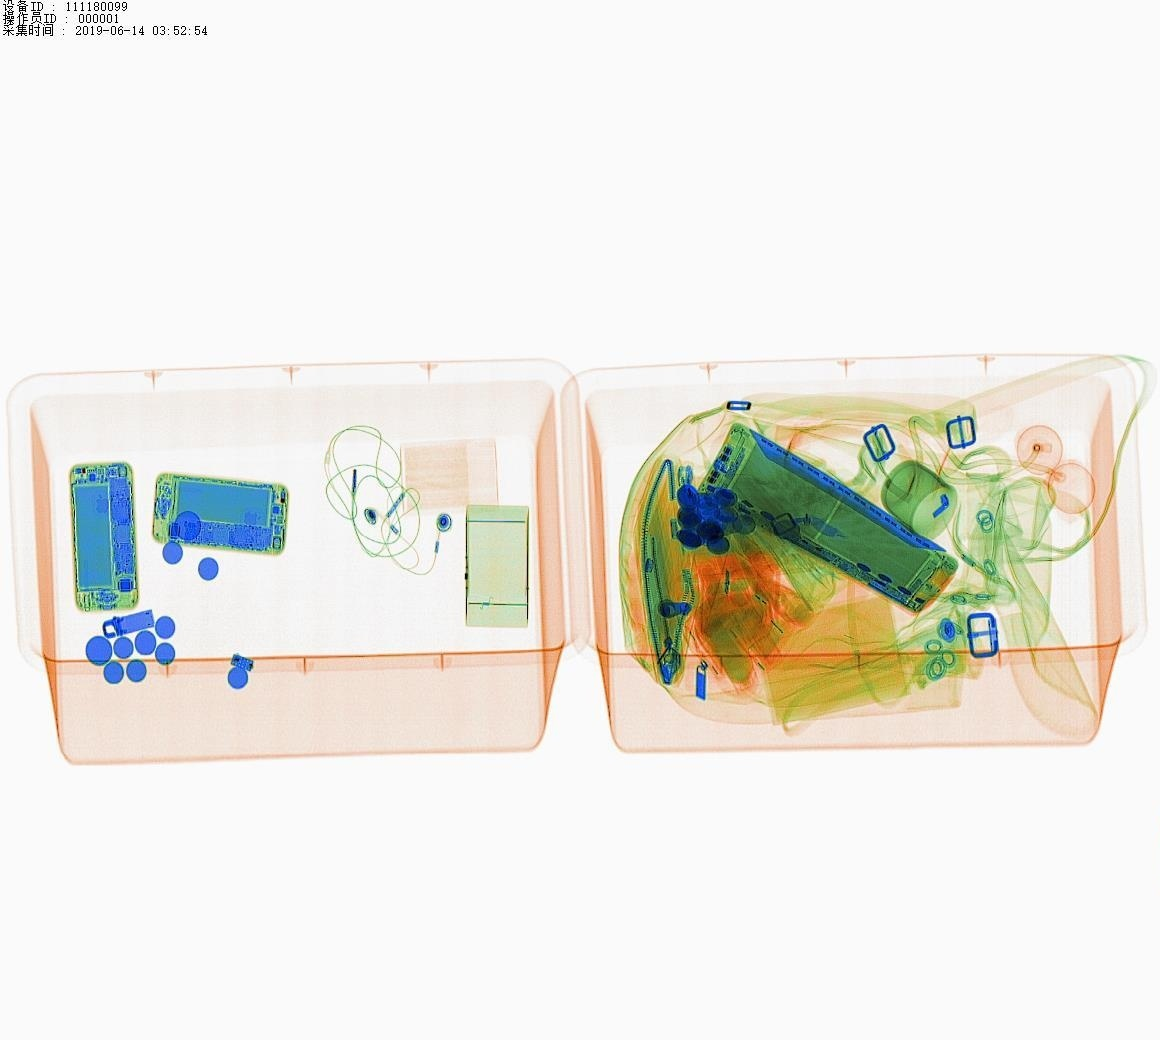NonmetallicFire: (661, 458, 702, 540)
